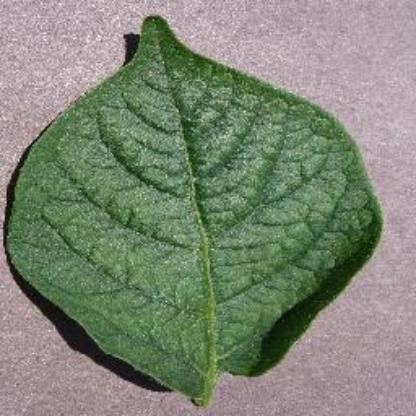Healthy-plant: (5, 6, 398, 394)
